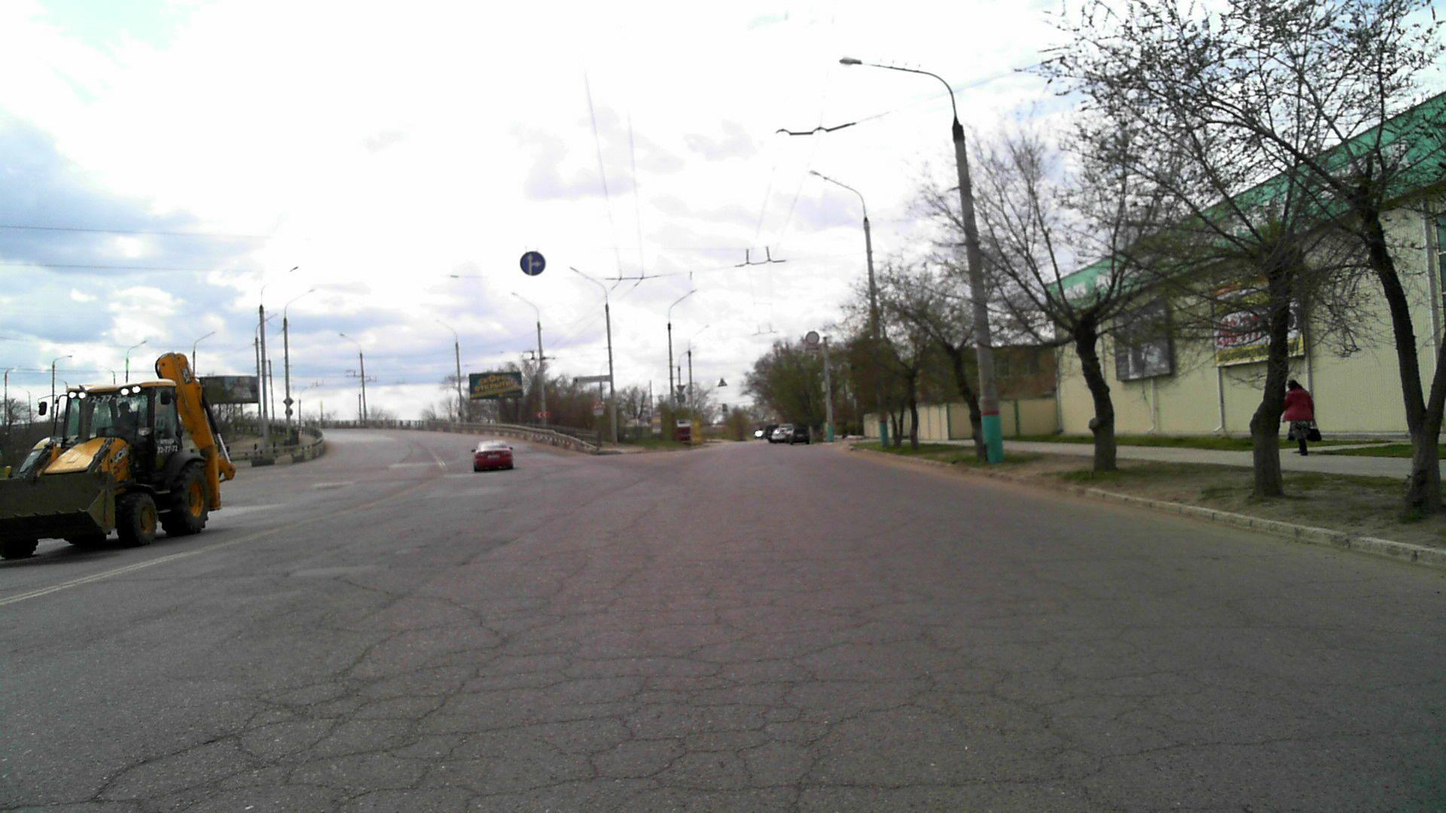road_sign: (520, 249, 546, 277)
